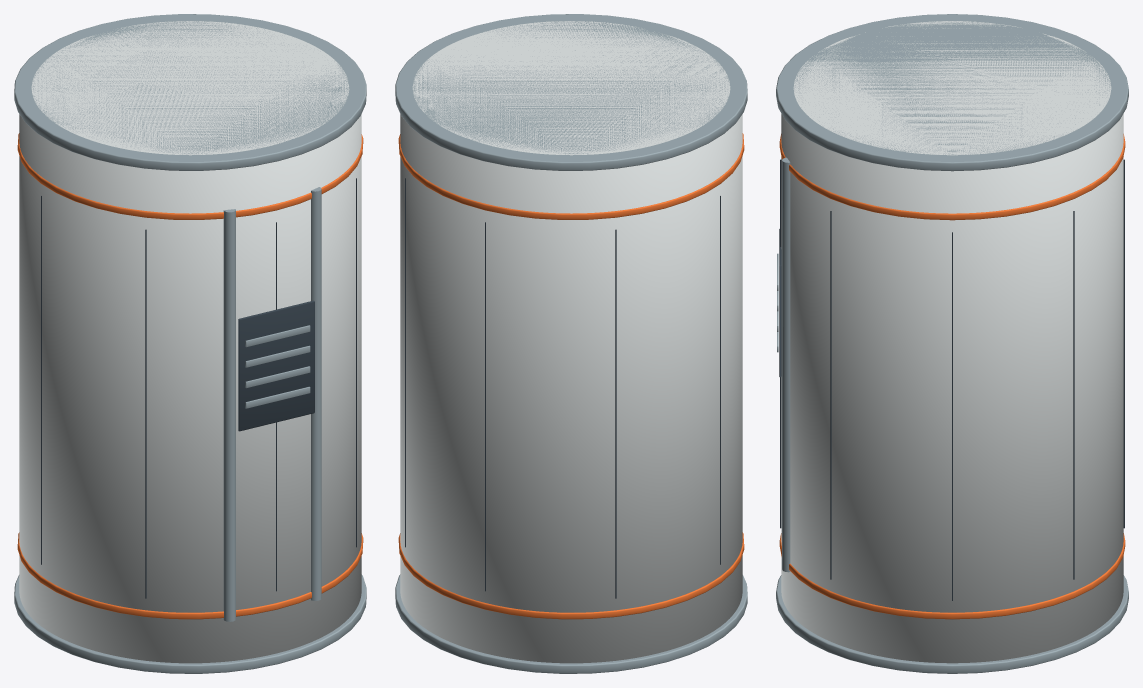
Rendered from tankLarge.glb.
3 renders of one model, left to right at view 1: azimuth 30°, elevation 25°; view 2: azimuth 150°, elevation 25°; view 3: azimuth 270°, elevation 25°, orthographic.
Visible parts, largest first — view 1: Insulated pressure vessel; view 2: Insulated pressure vessel; view 3: Insulated pressure vessel.
Part boxes in pixels (left/top/right/bottom): Insulated pressure vessel: left=14, top=14, right=366, bottom=673; Insulated pressure vessel: left=395, top=14, right=747, bottom=673; Insulated pressure vessel: left=776, top=14, right=1128, bottom=673.
Bounding box in the file's own units: 2.5 × 4 × 2.5.
